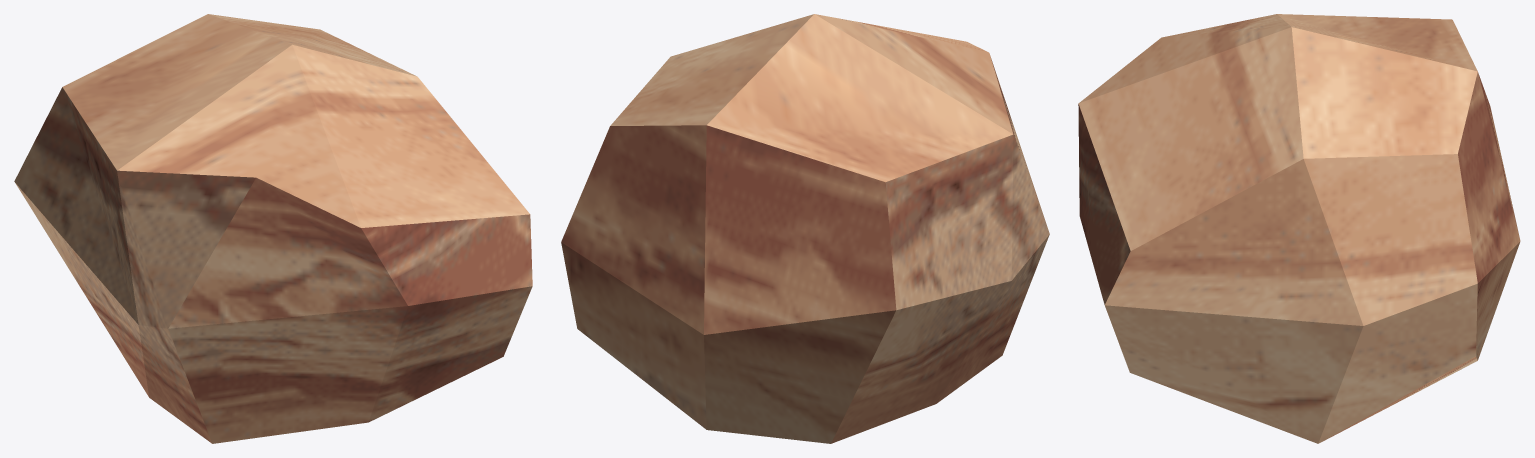
The model's file is Desert_rock_01.fbx.
The picture shows the model from 3 angles, left to right: view 1: azimuth 30°, elevation 25°; view 2: azimuth 150°, elevation 25°; view 3: azimuth 270°, elevation 25°; orthographic projection. The views are drawn at different scales.
Parts seen in each view (by area): view 1: Desert_rock_01; view 2: Desert_rock_01; view 3: Desert_rock_01.
Boxes of the visible parts, left/top/right/bottom form: Desert_rock_01: left=14, top=14, right=532, bottom=443; Desert_rock_01: left=561, top=14, right=1049, bottom=443; Desert_rock_01: left=1078, top=14, right=1520, bottom=443.
Bounding box in the file's own units: 265 × 228 × 277.
